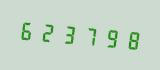eight: (118, 23, 137, 54)
nine: (98, 21, 117, 53)
seven: (78, 19, 97, 51)
six: (17, 14, 36, 46)
three: (58, 18, 77, 49)
two: (37, 16, 56, 47)
